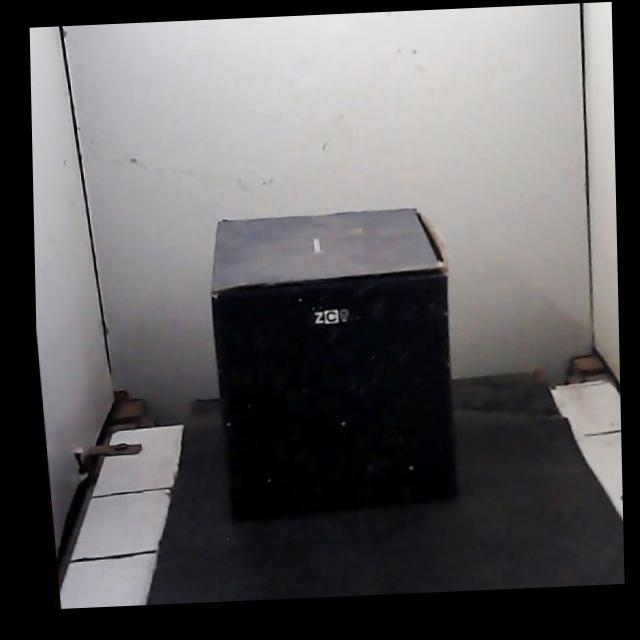papel: (212, 208, 456, 518)
